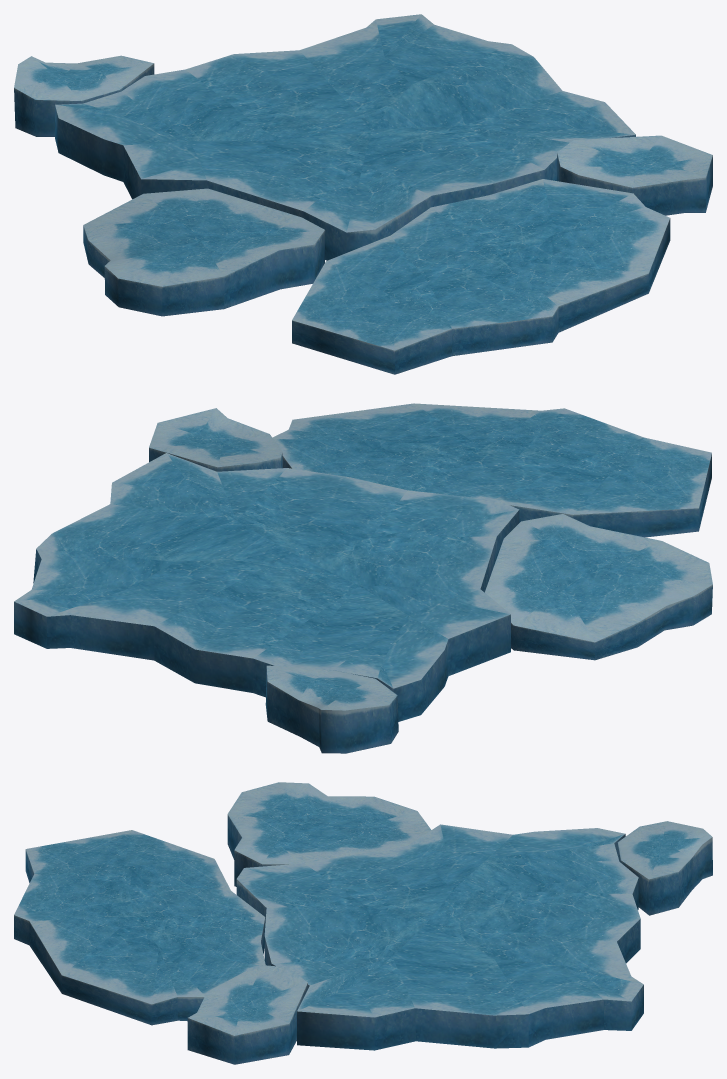
The model's file is yw_wanglingzhita_fubing.FBX.
The picture shows the model from 3 angles, top to bottom: view 1: azimuth 30°, elevation 25°; view 2: azimuth 150°, elevation 25°; view 3: azimuth 270°, elevation 25°; orthographic projection. The views are drawn at different scales.
Visible parts, largest first — view 1: yw_wanglingzhita_fubing; view 2: yw_wanglingzhita_fubing; view 3: yw_wanglingzhita_fubing.
Part boxes in pixels (box(x1,y1,x2,y2)): yw_wanglingzhita_fubing: box(14, 14, 712, 374); yw_wanglingzhita_fubing: box(14, 403, 712, 753); yw_wanglingzhita_fubing: box(14, 782, 712, 1064).
Bounding box in the file's own units: 2031 × 150 × 2345.
